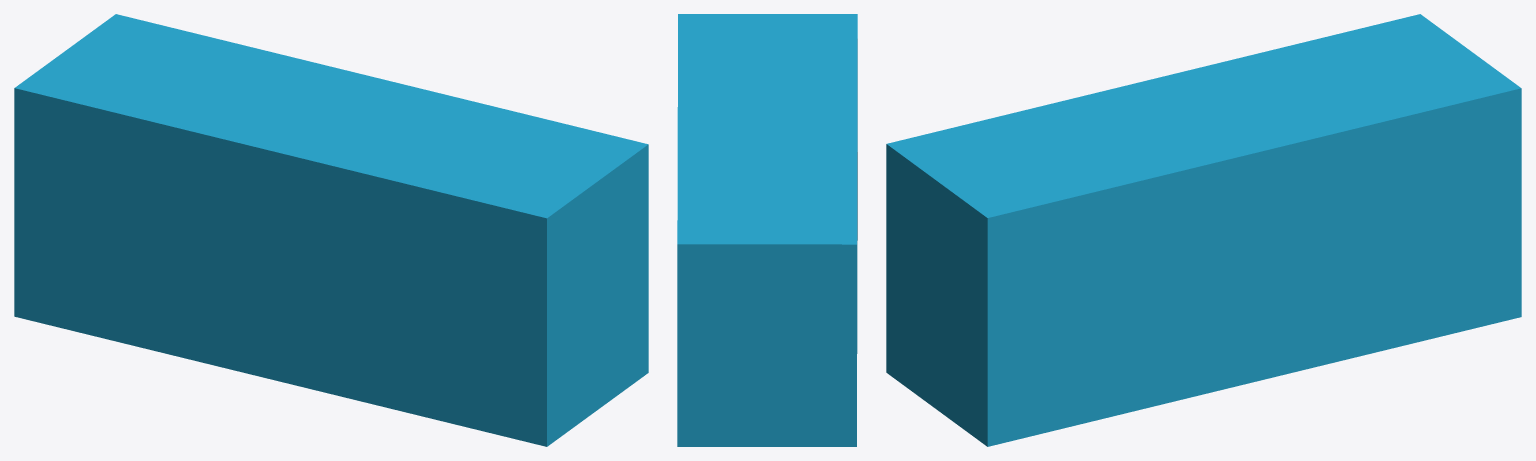
The picture shows the model from 3 angles, left to right: view 1: azimuth 30°, elevation 25°; view 2: azimuth 150°, elevation 25°; view 3: azimuth 270°, elevation 25°; orthographic projection. The views are drawn at different scales.
Visible parts, largest first — view 1: Visual_Cube; view 2: Visual_Cube; view 3: Visual_Cube.
Part boxes in pixels (x1,y1,x2,y2): Visual_Cube: (14, 14, 648, 446); Visual_Cube: (677, 14, 857, 446); Visual_Cube: (886, 14, 1521, 446).
Size of the model in its own units: 184 by 96.18 by 242.
